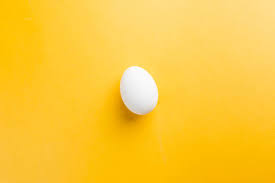eggs: (112, 49, 164, 131)
